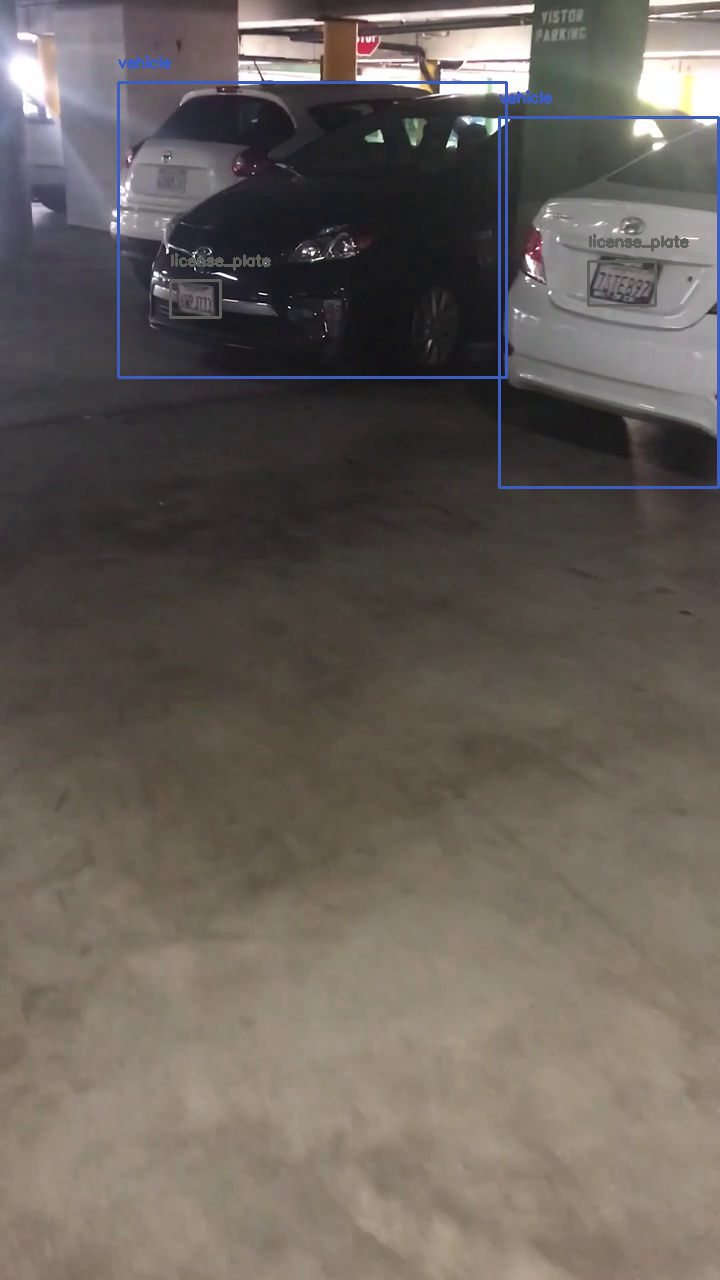license_plate: (588, 261, 655, 305), (170, 280, 220, 317)
vehicle: (118, 82, 506, 377), (499, 117, 718, 487)
